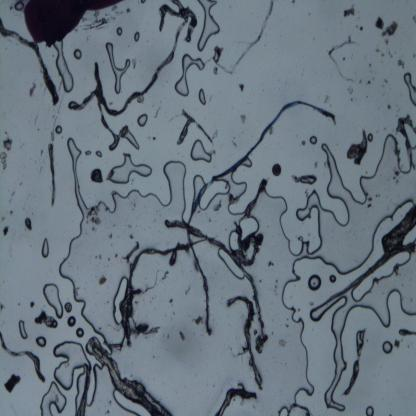Air bubble: (295, 133, 416, 273), (311, 257, 416, 413), (59, 136, 120, 342), (268, 188, 317, 416), (172, 50, 208, 100), (51, 340, 87, 390), (106, 151, 152, 185), (104, 42, 131, 95), (196, 1, 220, 53), (52, 39, 74, 91), (113, 387, 149, 416), (40, 382, 67, 416), (42, 283, 64, 319), (112, 276, 128, 325), (402, 70, 416, 107), (192, 138, 213, 162), (124, 129, 140, 149), (308, 273, 322, 292), (18, 319, 27, 343), (40, 238, 50, 259), (35, 334, 48, 349), (136, 112, 148, 128), (198, 88, 208, 107), (382, 340, 393, 354), (74, 47, 83, 61), (66, 314, 76, 326), (76, 326, 86, 338), (365, 404, 375, 416), (244, 158, 254, 168), (310, 134, 318, 146), (15, 1, 24, 11), (134, 31, 141, 43), (329, 274, 337, 284), (95, 150, 103, 159), (116, 27, 124, 36), (367, 132, 374, 142), (55, 126, 62, 134), (85, 150, 92, 157), (301, 140, 307, 146)
Background material: (95, 0, 187, 116), (346, 128, 368, 164), (34, 311, 58, 331), (1, 374, 22, 393), (87, 209, 104, 232), (290, 173, 318, 185), (380, 20, 398, 38), (90, 167, 105, 185), (397, 326, 416, 338), (341, 5, 357, 18), (28, 80, 39, 98), (374, 16, 385, 31), (276, 334, 287, 348), (3, 137, 13, 152), (0, 152, 8, 170), (96, 272, 107, 285), (272, 274, 279, 294), (193, 314, 203, 328), (238, 113, 248, 126), (367, 192, 374, 210), (154, 103, 162, 118), (392, 168, 400, 182), (376, 44, 384, 58), (2, 224, 10, 236), (179, 329, 186, 342), (28, 297, 35, 310), (213, 202, 222, 212), (160, 269, 168, 280), (238, 81, 245, 93), (132, 56, 138, 70), (184, 286, 192, 296), (394, 339, 401, 350), (398, 58, 405, 69), (386, 51, 395, 59), (212, 66, 219, 76), (268, 258, 274, 268), (348, 84, 353, 96), (356, 24, 364, 31), (364, 79, 372, 86), (94, 254, 102, 260), (325, 96, 331, 104), (386, 103, 392, 110), (308, 301, 315, 307), (128, 232, 134, 239), (384, 39, 390, 46), (0, 302, 5, 310), (165, 332, 171, 338), (108, 232, 113, 239), (411, 15, 416, 22), (114, 252, 118, 260), (168, 298, 173, 304), (9, 208, 13, 215), (412, 52, 416, 59), (383, 77, 387, 84), (127, 223, 132, 228), (284, 323, 288, 329), (152, 135, 156, 141), (380, 83, 384, 88), (369, 62, 372, 68), (343, 56, 346, 61), (99, 326, 102, 330), (108, 257, 110, 262), (350, 99, 353, 102)
Cellulose filter fibre: (163, 213, 265, 336), (121, 236, 207, 346), (90, 344, 170, 416), (0, 19, 60, 106), (204, 2, 274, 75), (224, 294, 263, 389), (232, 173, 268, 270), (0, 332, 46, 384), (157, 3, 198, 49), (343, 329, 368, 396), (93, 99, 121, 150), (328, 39, 358, 85), (178, 110, 215, 146), (211, 388, 257, 416), (395, 113, 416, 168), (76, 364, 94, 416), (44, 144, 58, 207), (68, 90, 96, 112)
Cotton: (186, 100, 336, 338)
Diatom: (270, 163, 283, 177), (23, 217, 33, 230), (256, 235, 264, 246), (64, 302, 72, 312)
Pen: (22, 0, 128, 41)
